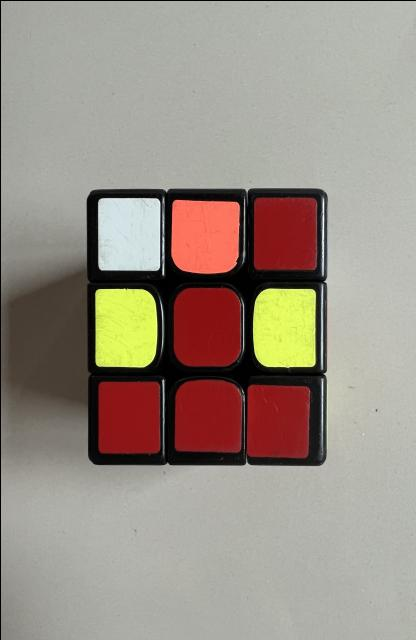Orange: (170, 199, 238, 272)
Red: (172, 286, 240, 366), (173, 379, 242, 452), (252, 196, 316, 269), (246, 384, 309, 458), (98, 380, 159, 452)
White: (96, 198, 159, 270)
Yellow: (251, 288, 315, 368), (94, 288, 157, 366)
